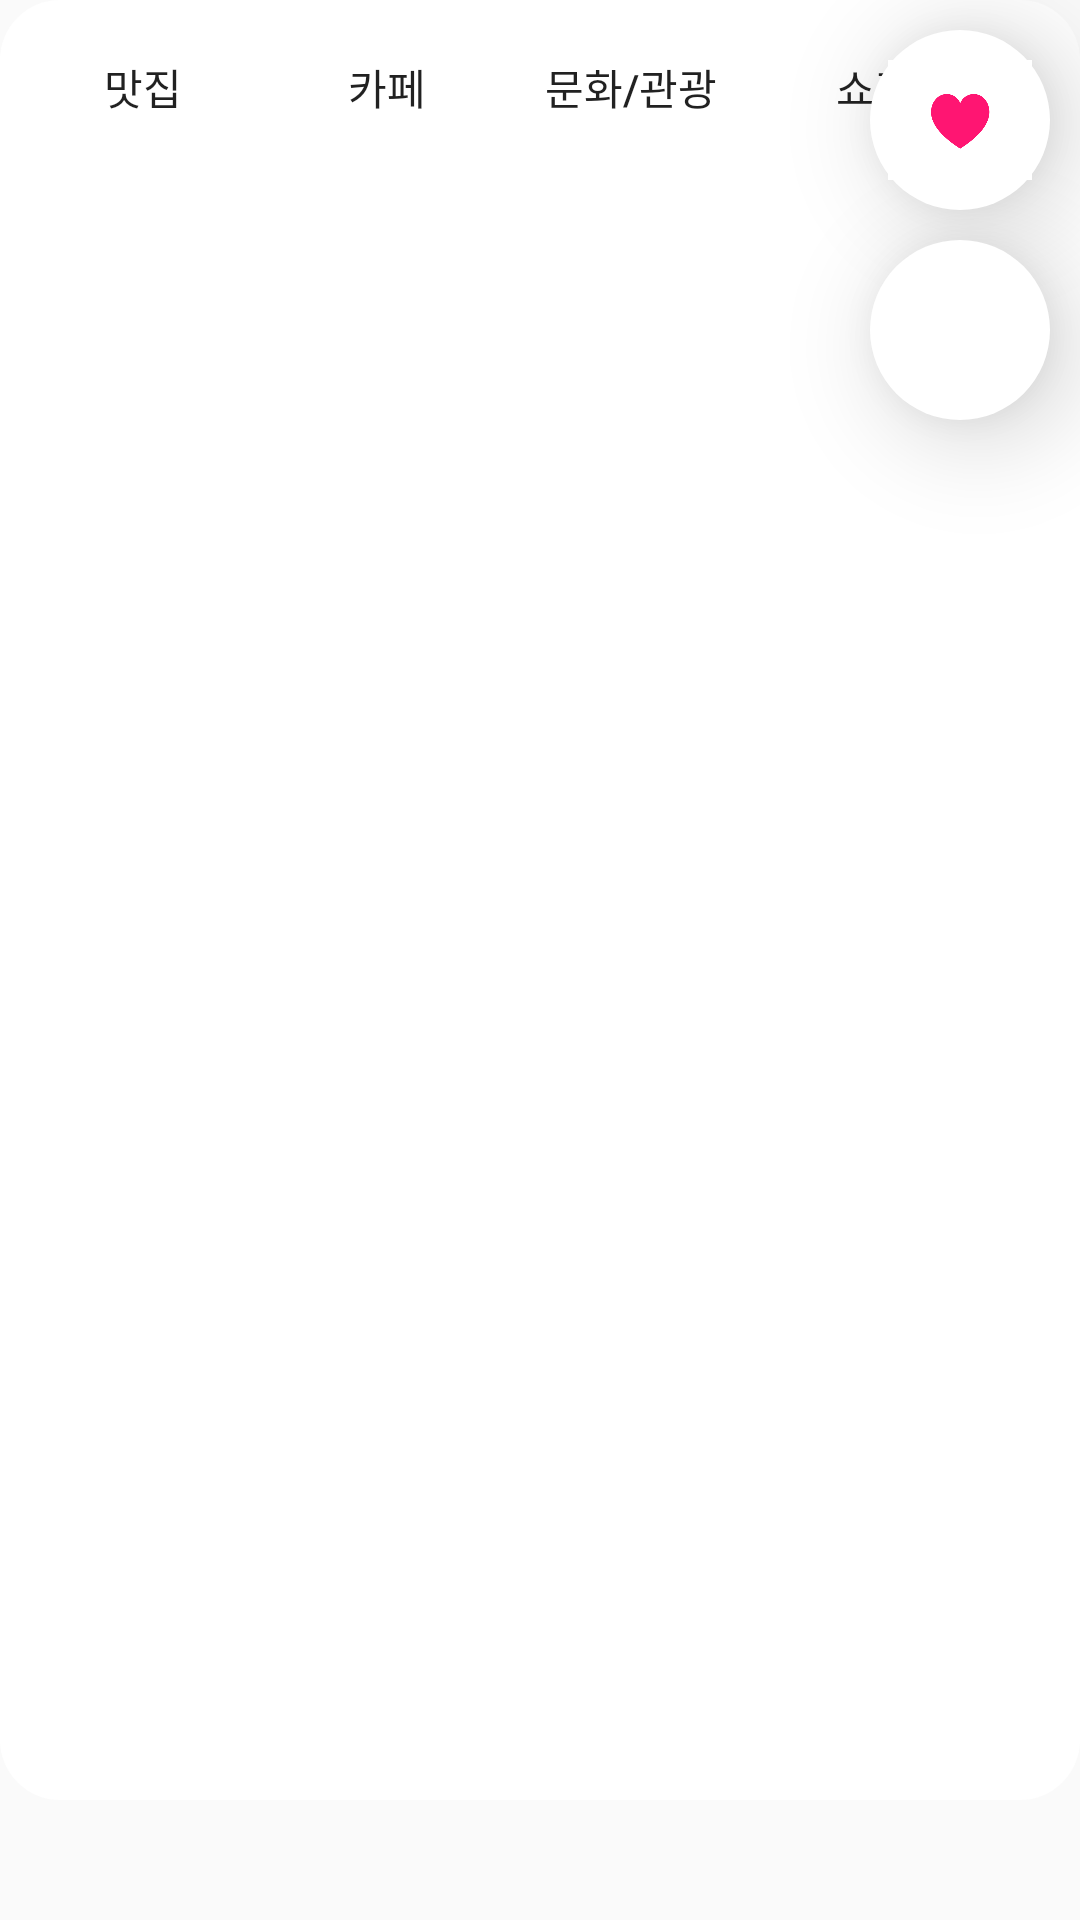

Named icons in this screenshot (1080x1920) and their bounding boxes, (x1, y1, x2, y2):
like: (870, 30, 1050, 210)
